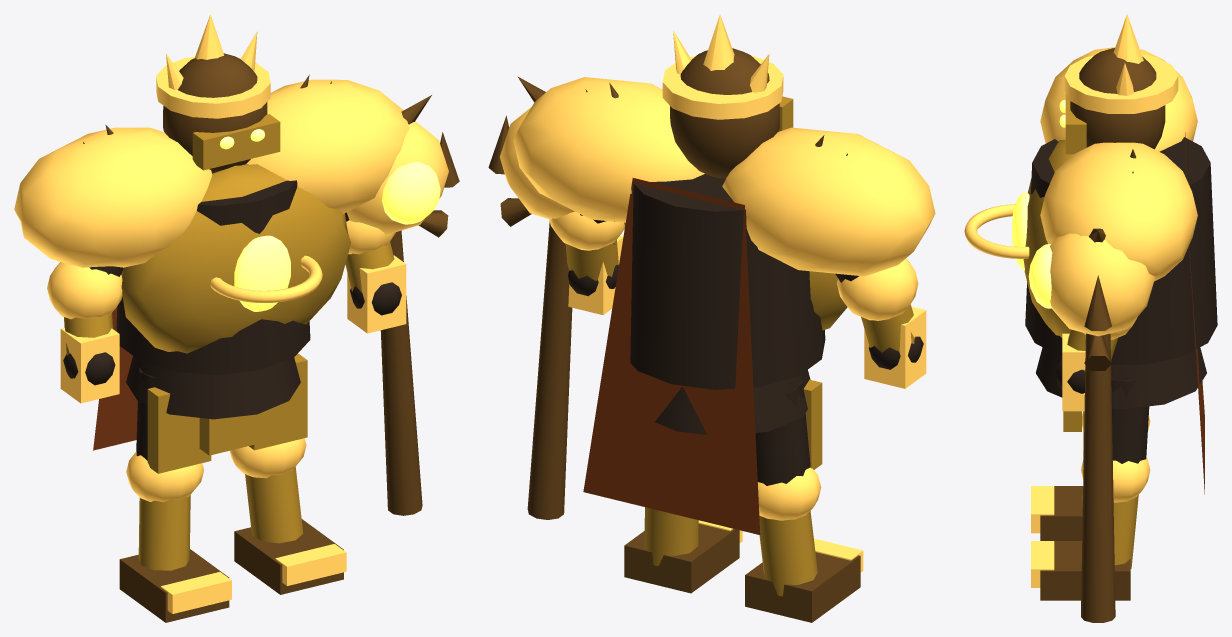
File: golden_tantalos.glb
The picture shows the model from 3 angles, left to right: view 1: azimuth 30°, elevation 25°; view 2: azimuth 150°, elevation 25°; view 3: azimuth 270°, elevation 25°; orthographic projection. The views are drawn at different scales.
Visible parts, largest first — view 1: golden_tantalos_solar_cuirass, golden_tantalos_sun_pauldron_left, golden_tantalos_sun_pauldron_right, golden_tantalos_torso, golden_tantalos_pelvis, golden_tantalos_maul_shaft, golden_tantalos_helmeted_head, golden_tantalos_greave_left, golden_tantalos_thigh_plate_left, golden_tantalos_greave_right, golden_tantalos_boot_left, golden_tantalos_boot_right (+23 smaller); view 2: golden_tantalos_torso, golden_tantalos_desert_cape, golden_tantalos_sun_pauldron_left, golden_tantalos_sun_pauldron_right, golden_tantalos_maul_shaft, golden_tantalos_helmeted_head, golden_tantalos_boot_left, golden_tantalos_boot_right, golden_tantalos_helmet_circlet, golden_tantalos_greave_left, golden_tantalos_pelvis, golden_tantalos_elbow_guard_left (+15 smaller); view 3: golden_tantalos_sun_pauldron_right, golden_tantalos_torso, golden_tantalos_maul_shaft, golden_tantalos_maul_head, golden_tantalos_helmeted_head, golden_tantalos_pelvis, golden_tantalos_helmet_circlet, golden_tantalos_sun_pauldron_left, golden_tantalos_boot_right, golden_tantalos_thigh_right, golden_tantalos_solar_cuirass, golden_tantalos_boot_left (+17 smaller).
Boxes of the visible parts, x1,y1,x2,y2 form: golden_tantalos_solar_cuirass: (121,164,350,353); golden_tantalos_sun_pauldron_left: (14,127,212,267); golden_tantalos_sun_pauldron_right: (246,79,409,213); golden_tantalos_torso: (116,180,310,374); golden_tantalos_pelvis: (126,356,300,419); golden_tantalos_maul_shaft: (380,230,422,515); golden_tantalos_helmeted_head: (163,53,267,173); golden_tantalos_greave_left: (138,495,190,570); golden_tantalos_thigh_plate_left: (147,387,211,473); golden_tantalos_greave_right: (245,467,303,543); golden_tantalos_boot_left: (119,549,229,622); golden_tantalos_boot_right: (234,519,343,594); golden_tantalos_torso: (630,174,825,389); golden_tantalos_desert_cape: (583,178,760,534); golden_tantalos_sun_pauldron_left: (722,127,935,276); golden_tantalos_sun_pauldron_right: (513,77,704,222); golden_tantalos_maul_shaft: (527,221,572,519); golden_tantalos_helmeted_head: (670,48,779,178); golden_tantalos_boot_left: (745,552,860,622); golden_tantalos_boot_right: (624,523,739,593); golden_tantalos_helmet_circlet: (662,55,783,119); golden_tantalos_greave_left: (759,511,817,596); golden_tantalos_pelvis: (655,370,810,434); golden_tantalos_elbow_guard_left: (837,258,918,320); golden_tantalos_sun_pauldron_right: (1040,142,1197,281); golden_tantalos_torso: (1025,137,1217,364); golden_tantalos_maul_shaft: (1081,333,1115,622); golden_tantalos_maul_head: (1050,233,1155,336); golden_tantalos_helmeted_head: (1070,48,1165,149); golden_tantalos_pelvis: (1036,347,1206,409); golden_tantalos_helmet_circlet: (1064,54,1178,113); golden_tantalos_sun_pauldron_left: (1040,47,1197,151); golden_tantalos_boot_right: (1040,541,1130,600); golden_tantalos_thigh_right: (1111,379,1149,463); golden_tantalos_solar_cuirass: (1023,140,1073,337); golden_tantalos_boot_left: (1040,486,1083,540).
Size of the model in its own units: 4.13 by 5.18 by 2.18.
